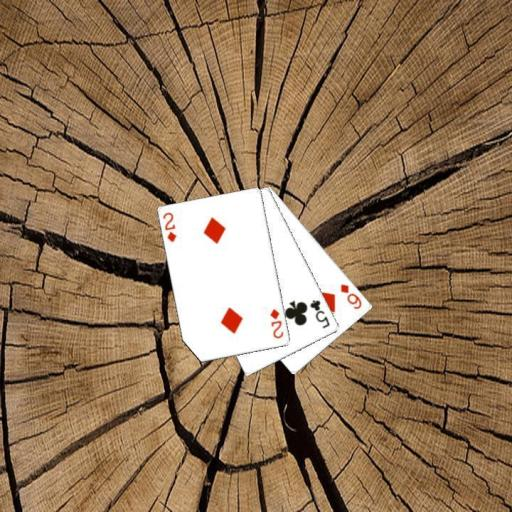card-corner: (308, 296, 332, 330), (338, 281, 363, 311), (160, 209, 178, 244), (268, 306, 286, 340)
